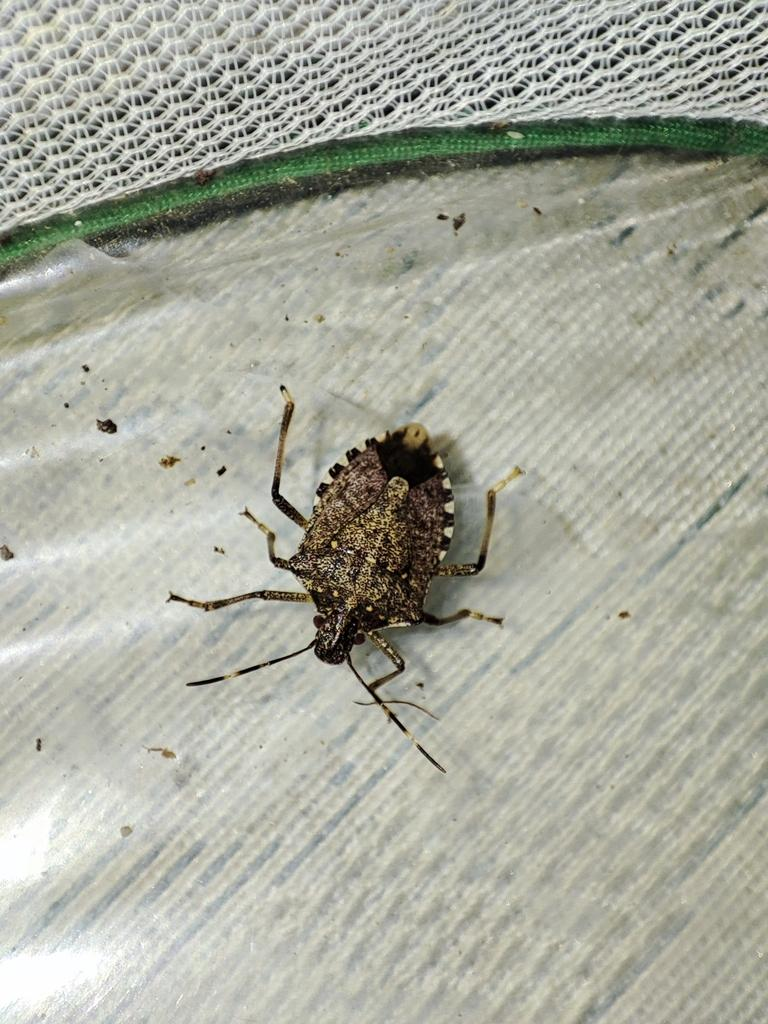stink_bugs: (122, 333, 601, 810)
